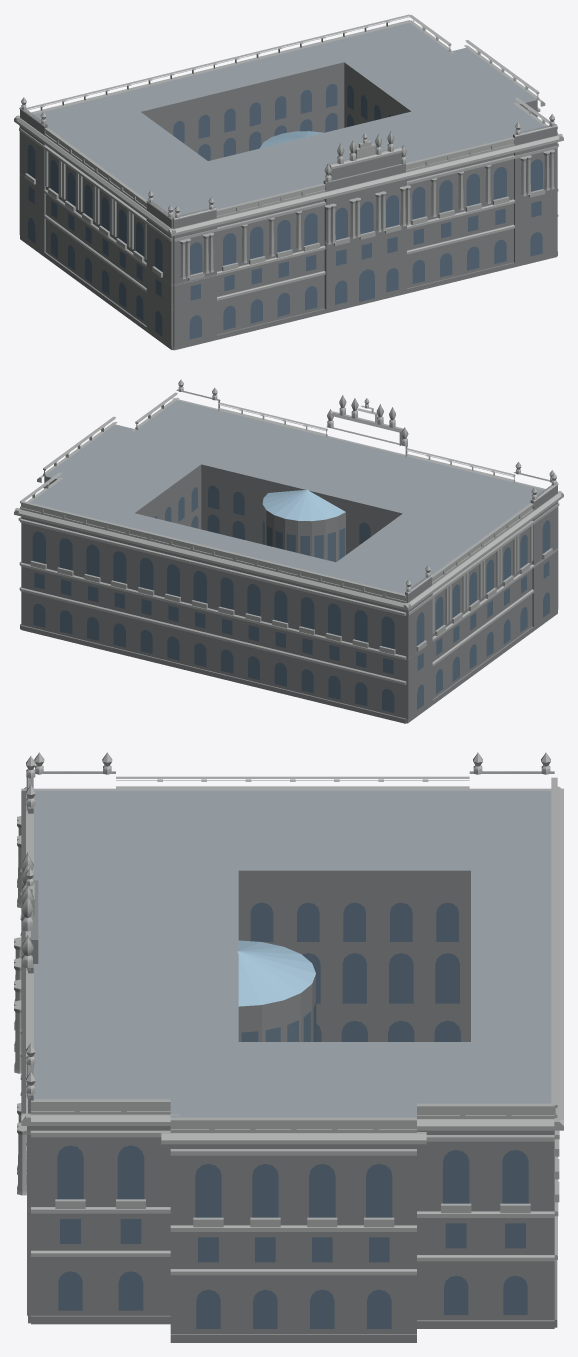
The model's file is mexico-city-munal.glb.
3 views of the same model, one above another, from view 1: azimuth 30°, elevation 25°; view 2: azimuth 150°, elevation 25°; view 3: azimuth 270°, elevation 25° (orthographic). The views are drawn at different scales.
Parts seen in each view (by area): view 1: Museo Nacional de Arte; view 2: Museo Nacional de Arte; view 3: Museo Nacional de Arte.
Boxes of the visible parts, x1,y1,x2,y2 form: Museo Nacional de Arte: (14, 14, 563, 350); Museo Nacional de Arte: (14, 379, 563, 723); Museo Nacional de Arte: (14, 752, 563, 1342).
Bounding box in the file's own units: 87.5 × 34.4 × 58.23.
